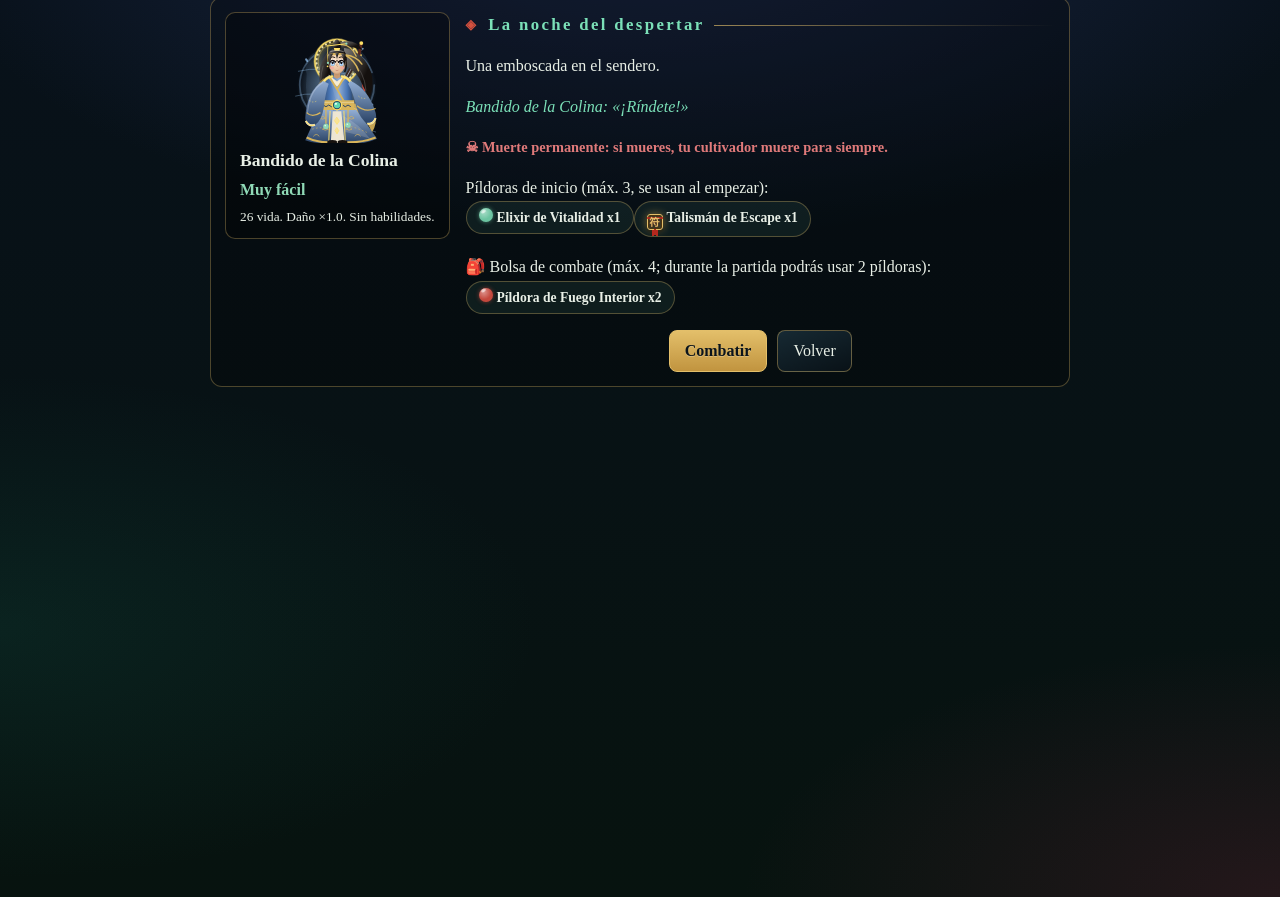
Test case: Combate › pide objetivo aliado para cartas con mejora_aliada (bf)
This screenshot has width=1280, height=897.
What coordinates should you click on to do the following:
click the button "Combatir"
I would click on:
 (718, 351)
Its box is [669,330,767,372].
(page scrolled)
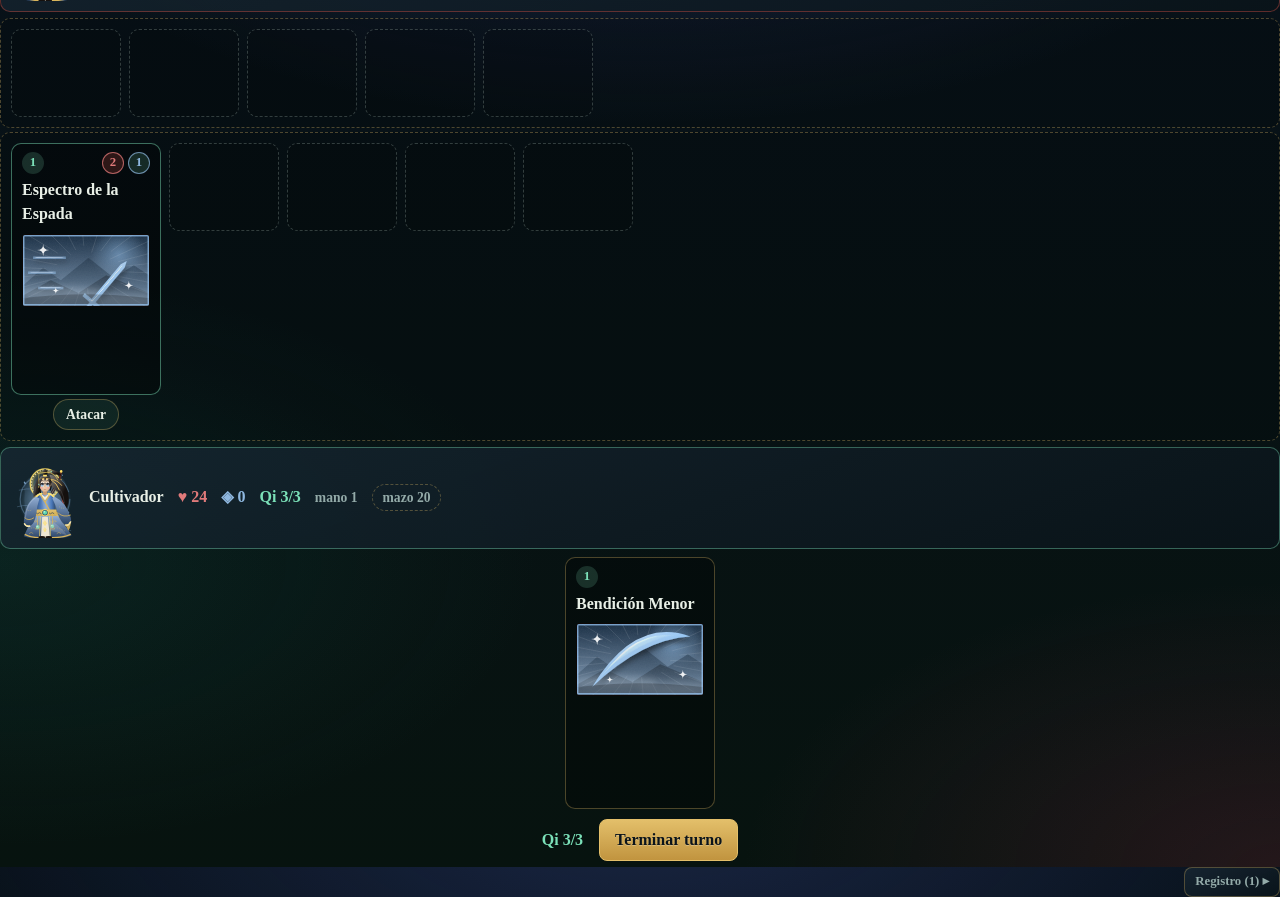
What coordinates should you click on to do the following:
click the button "1 Bendición Menor"
I would click on:
 (640, 683)
Its box is [565,557,715,809].
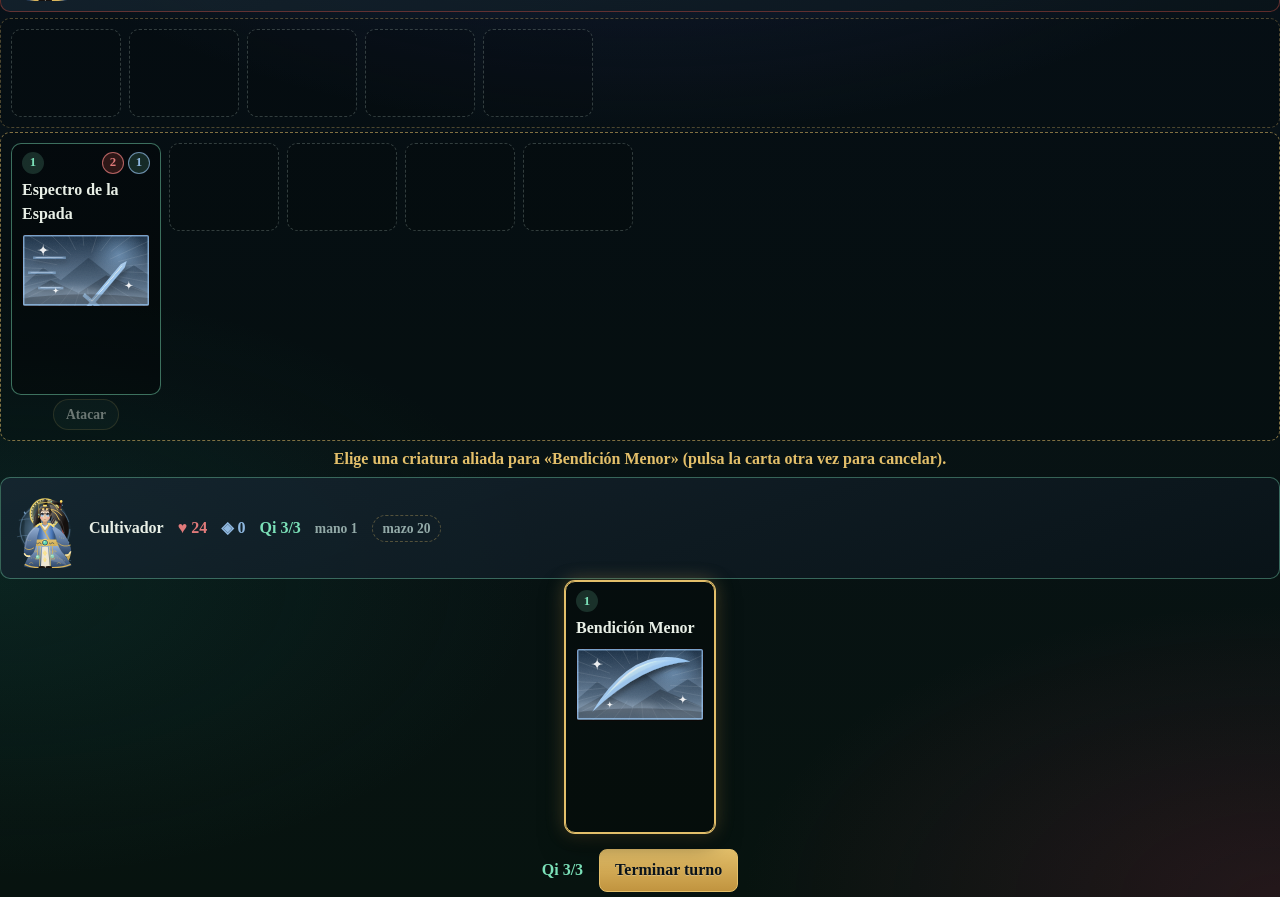
Now the text "criatura aliada" is shown, box [334,450,552,467]
